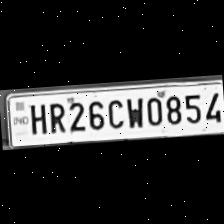0: (142, 93, 164, 127)
2: (64, 97, 86, 132)
4: (201, 88, 223, 124)
5: (181, 90, 201, 125)
6: (84, 97, 104, 130)
8: (162, 92, 182, 126)
C: (102, 94, 124, 130)
H: (26, 101, 47, 135)
R: (44, 99, 64, 135)
W: (122, 94, 144, 129)
